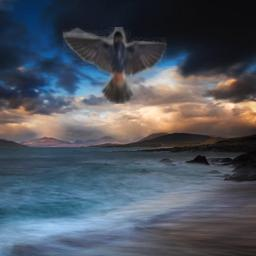Swallow: (60, 27, 167, 104)
